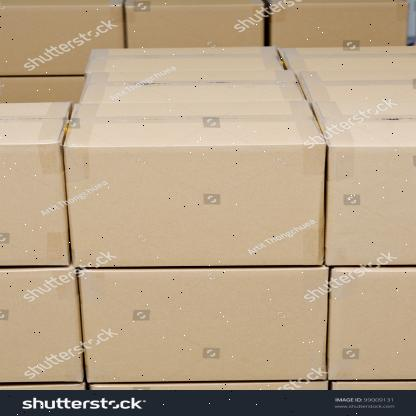box: (66, 142, 321, 267), (82, 268, 328, 378), (326, 141, 416, 267), (328, 267, 416, 380), (0, 266, 83, 385), (0, 141, 69, 264)
